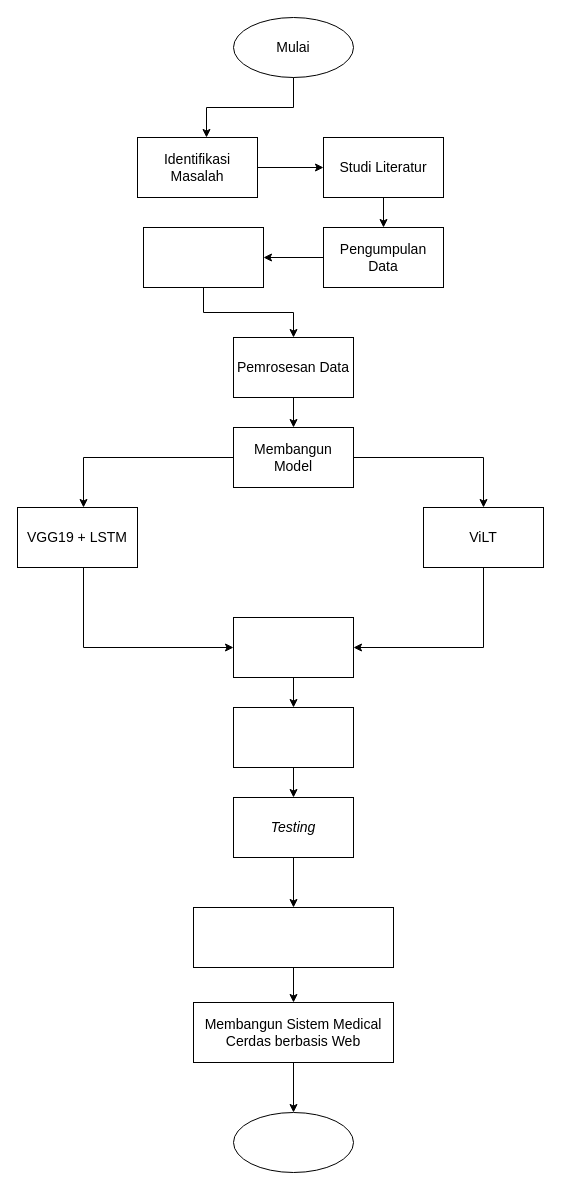
The diagram is 561 pixels wide and 1190 high, and some of its shapes have lost their labels. Here are the shapes that lost their labels. From the top down, the box of each, then its label:
(142, 226, 264, 288): Exploratory Data Analysis
(232, 616, 354, 678): Training
(232, 706, 354, 768): Validation
(192, 906, 394, 968): Perbandingan Hasil
(232, 1112, 354, 1172): Selesai
